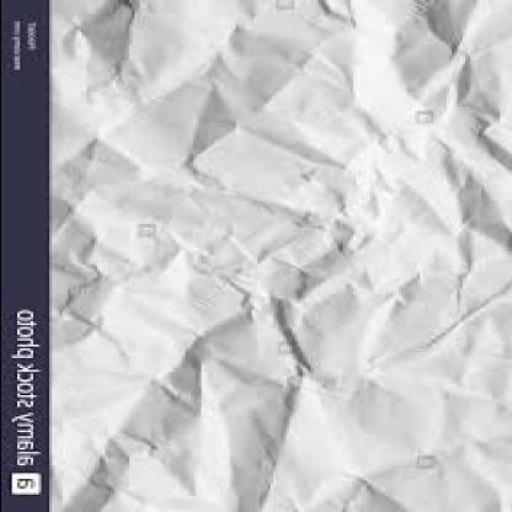paper: (52, 1, 510, 512)
